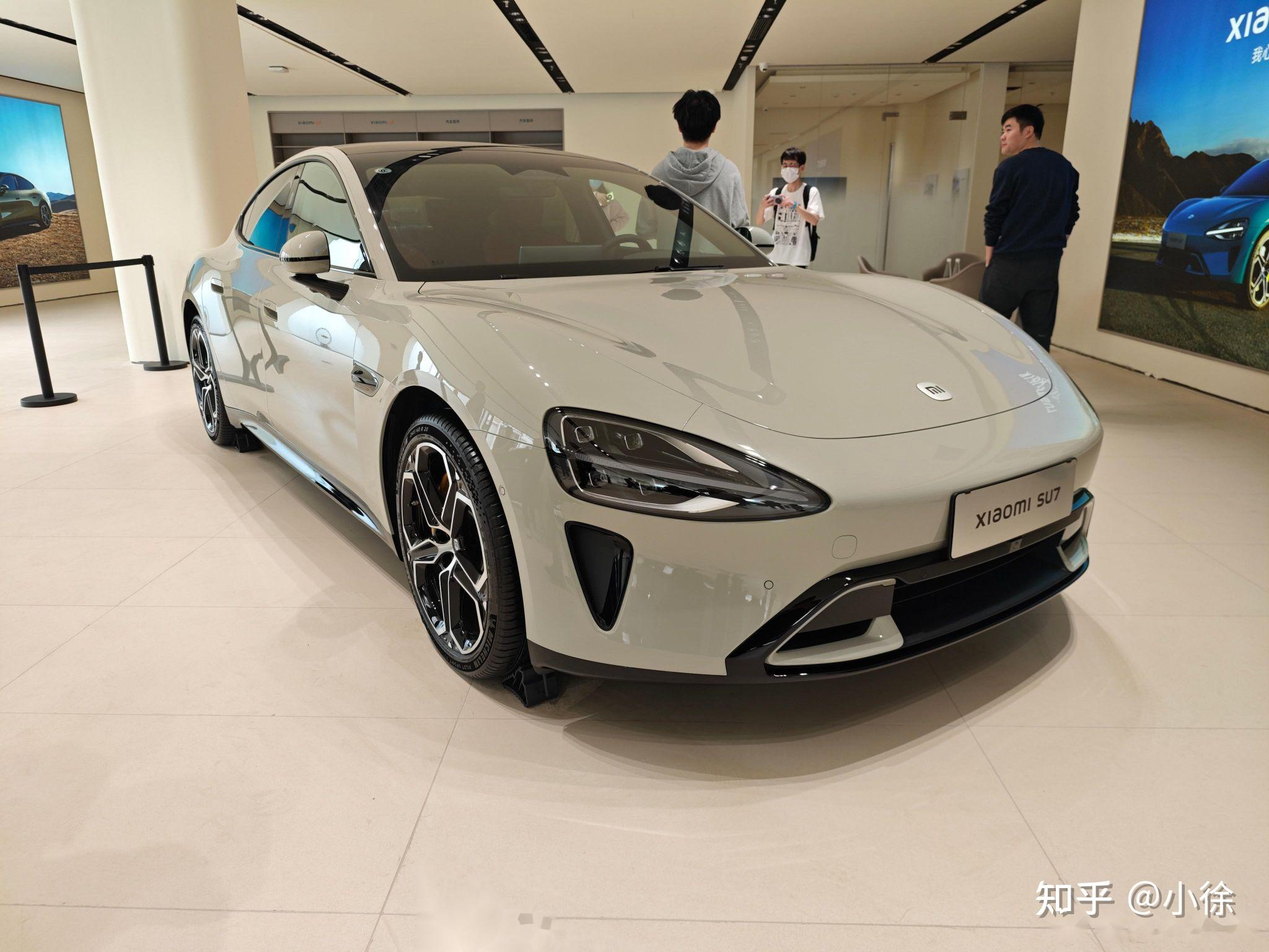su7: (183, 135, 1109, 693)
